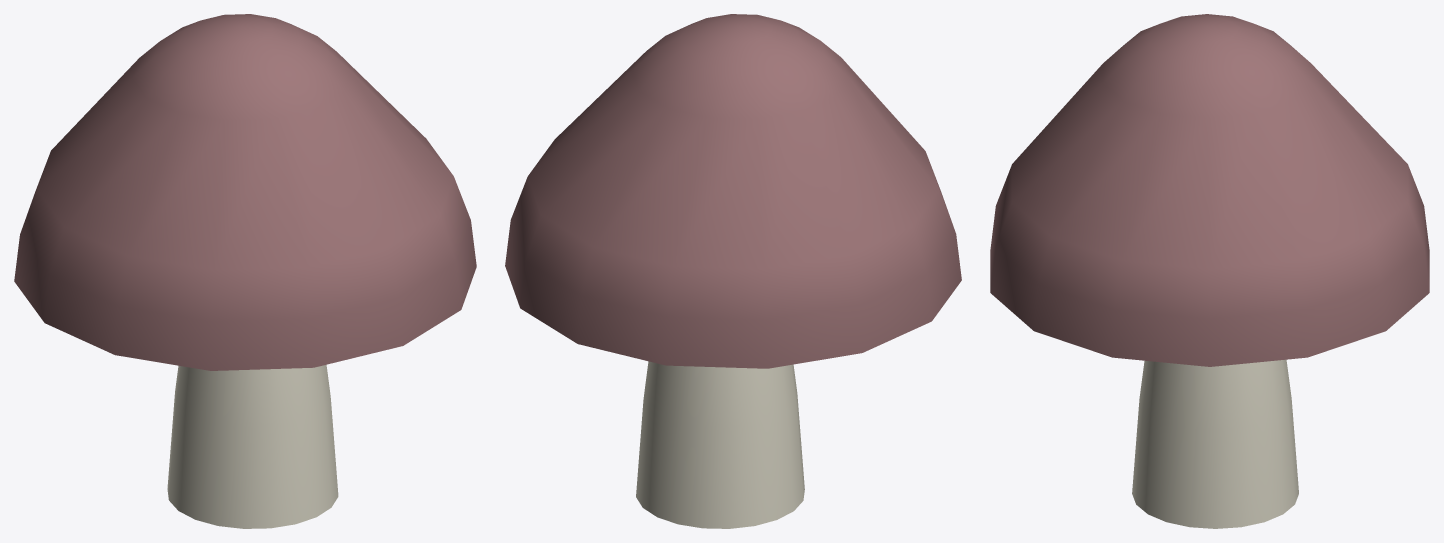
Rendered from paddenstoel6.fbx.
3 renders of one model, left to right at view 1: azimuth 30°, elevation 25°; view 2: azimuth 150°, elevation 25°; view 3: azimuth 270°, elevation 25°, orthographic. The views are drawn at different scales.
Parts seen in each view (by area): view 1: polySurface186; view 2: polySurface186; view 3: polySurface186.
Boxes of the visible parts, x1=… form: polySurface186: x1=14, y1=14, x2=476, y2=528; polySurface186: x1=505, y1=14, x2=961, y2=528; polySurface186: x1=990, y1=14, x2=1429, y2=528.
Bounding box in the file's own units: 0.4257 × 0.4789 × 0.415.
